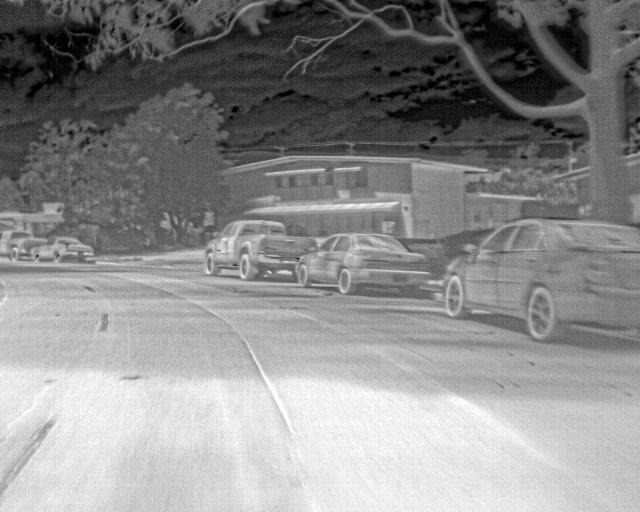car: (441, 217, 639, 343), (292, 230, 431, 299), (203, 216, 318, 280), (35, 236, 93, 266), (2, 226, 47, 261)
